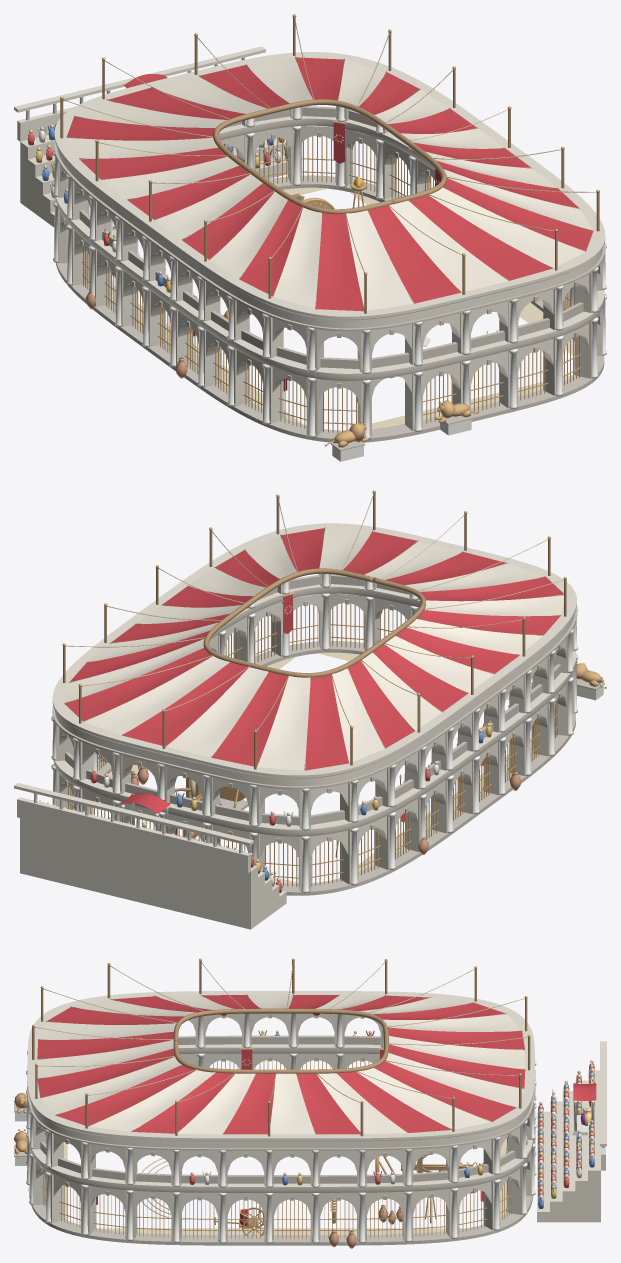
Rendered from GladiatorColosseumCage.fbx.
The picture shows the model from 3 angles, top to bottom: view 1: azimuth 30°, elevation 25°; view 2: azimuth 150°, elevation 25°; view 3: azimuth 270°, elevation 25°; orthographic projection. The views are drawn at different scales.
Parts seen in each view (by area): view 1: ArenaStone, ArenaCanvasRed, ArenaCanvasCream, ArenaStoneDark, ArenaGrilles, ArenaColumns, ArenaSeats, ArenaColumnsUpper, ArenaRing, ArenaRigging, ArenaSand, ArenaWood (+3 smaller); view 2: ArenaStone, ArenaCanvasRed, ArenaCanvasCream, ArenaSeats, ArenaStoneDark, ArenaGrilles, ArenaColumns, ArenaColumnsUpper, ArenaRing, ArenaRigging, ArenaWood, ArenaSand; view 3: ArenaStone, ArenaCanvasRed, ArenaCanvasCream, ArenaStoneDark, ArenaSeats, ArenaGrilles, ArenaColumns, ArenaColumnsUpper, ArenaRing, ArenaRigging, ArenaWood, ArenaSand (+9 smaller).
Part boxes in pixels (bbox=[...]): ArenaStone: bbox=[54, 52, 605, 437]; ArenaCanvasRed: bbox=[67, 57, 593, 311]; ArenaCanvasCream: bbox=[67, 57, 592, 310]; ArenaStoneDark: bbox=[54, 106, 605, 451]; ArenaGrilles: bbox=[82, 136, 581, 432]; ArenaColumns: bbox=[26, 57, 606, 438]; ArenaSeats: bbox=[14, 46, 287, 227]; ArenaColumnsUpper: bbox=[53, 106, 606, 374]; ArenaRing: bbox=[213, 99, 446, 214]; ArenaRigging: bbox=[63, 17, 596, 309]; ArenaSand: bbox=[112, 187, 574, 430]; ArenaWood: bbox=[60, 17, 599, 313]; ArenaStone: bbox=[52, 523, 576, 891]; ArenaCanvasRed: bbox=[64, 528, 563, 770]; ArenaCanvasCream: bbox=[64, 528, 563, 770]; ArenaSeats: bbox=[14, 783, 286, 929]; ArenaStoneDark: bbox=[52, 574, 604, 895]; ArenaGrilles: bbox=[67, 603, 558, 886]; ArenaColumns: bbox=[34, 593, 578, 893]; ArenaColumnsUpper: bbox=[51, 573, 578, 830]; ArenaRing: bbox=[203, 568, 425, 677]; ArenaRigging: bbox=[64, 494, 563, 770]; ArenaWood: bbox=[63, 493, 566, 838]; ArenaSand: bbox=[95, 652, 531, 883]; ArenaStone: bbox=[27, 991, 534, 1241]; ArenaCanvasRed: bbox=[37, 995, 525, 1134]; ArenaCanvasCream: bbox=[37, 995, 525, 1134]; ArenaStoneDark: bbox=[14, 1014, 534, 1245]; ArenaSeats: bbox=[537, 1041, 606, 1222]; ArenaGrilles: bbox=[42, 1060, 512, 1238]; ArenaColumns: bbox=[26, 1053, 604, 1243]; ArenaColumnsUpper: bbox=[26, 1013, 536, 1187]; ArenaRing: bbox=[173, 1008, 388, 1073]; ArenaRigging: bbox=[34, 961, 527, 1133]; ArenaWood: bbox=[32, 961, 530, 1235]; ArenaSand: bbox=[64, 1138, 506, 1234].
Size of the model in its own units: 1040 by 449 by 1686.
